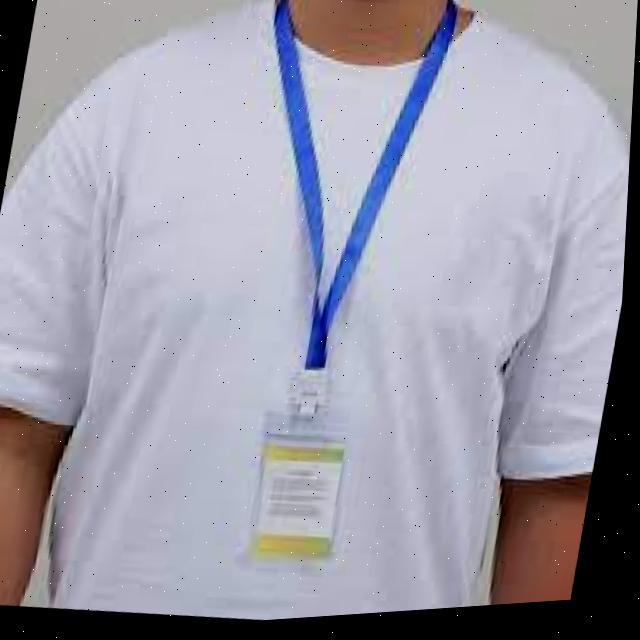id_card: (180, 0, 457, 589)
